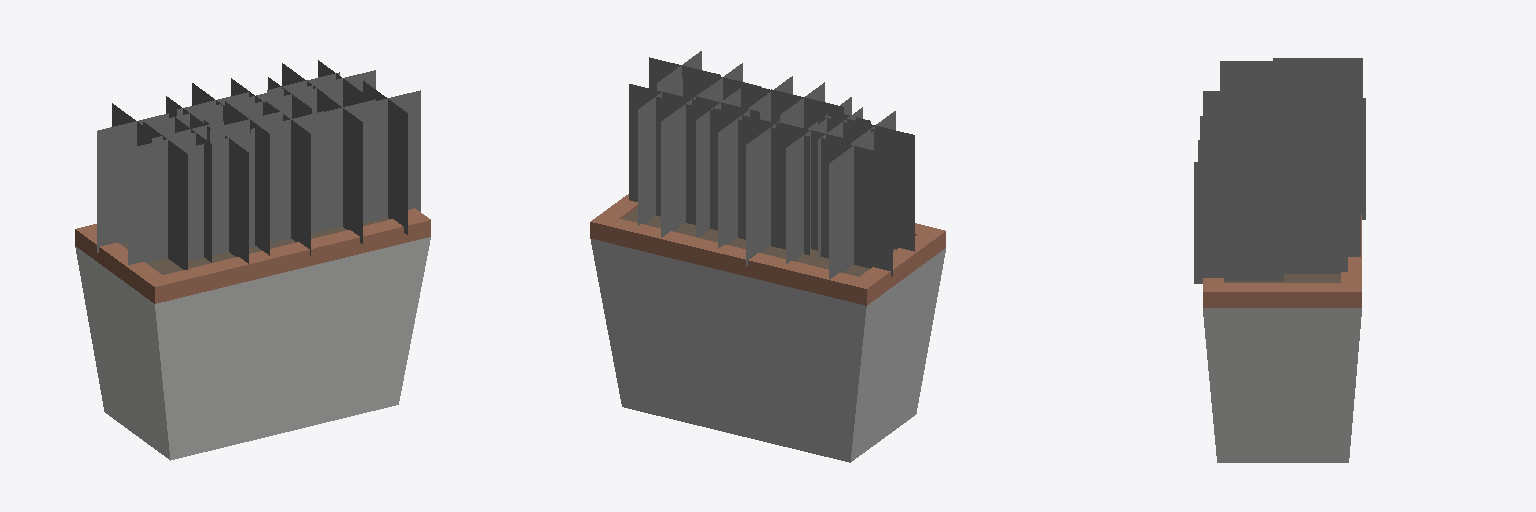
File: Planter_Low_LOD.obj
3 renders of one model, left to right at view 1: azimuth 30°, elevation 25°; view 2: azimuth 150°, elevation 25°; view 3: azimuth 270°, elevation 25°, orthographic.
Visible parts, largest first — view 1: Mesh29 Model, Mesh17 Orchid9 Model, Mesh23 Orchid12 Model, Mesh15 Orchid8 Model, Mesh11 Orchid6 Model, Mesh7 Orchid4 Model, Mesh19 Orchid10 Model, Mesh8 Orchid4 Model, Mesh24 Orchid12 Model, Mesh18 Orchid9 Model, Mesh20 Orchid10 Model, Mesh16 Orchid8 Model (+9 smaller); view 2: Mesh29 Model, Mesh11 Orchid6 Model, Mesh3 Orchid2 Model, Mesh27 Orchid14 Model, Mesh12 Orchid6 Model, Mesh4 Orchid2 Model, Mesh17 Orchid9 Model, Mesh28 Orchid14 Model, Mesh10 Orchid5 Model, Mesh14 Orchid7 Model, Mesh22 Orchid11 Model, Mesh6 Orchid3 Model (+9 smaller); view 3: Mesh29 Model, Mesh24 Orchid12 Model, Mesh22 Orchid11 Model, Mesh28 Orchid14 Model, Mesh4 Orchid2 Model, Mesh20 Orchid10 Model, Mesh26 Orchid13 Model, Mesh8 Orchid4 Model, Mesh12 Orchid6 Model, Mesh18 Orchid9 Model, Mesh14 Orchid7 Model, Mesh10 Orchid5 Model (+2 smaller).
Boxes of the visible parts, <box> form: Mesh29 Model: <box>75,208,430,460</box>; Mesh17 Orchid9 Model: <box>128,131,200,264</box>; Mesh23 Orchid12 Model: <box>348,90,420,222</box>; Mesh15 Orchid8 Model: <box>189,133,250,260</box>; Mesh11 Orchid6 Model: <box>97,113,168,252</box>; Mesh7 Orchid4 Model: <box>303,99,375,233</box>; Mesh19 Orchid10 Model: <box>251,111,323,247</box>; Mesh8 Orchid4 Model: <box>318,90,362,243</box>; Mesh24 Orchid12 Model: <box>363,81,407,234</box>; Mesh18 Orchid9 Model: <box>143,122,187,269</box>; Mesh20 Orchid10 Model: <box>266,101,310,255</box>; Mesh16 Orchid8 Model: <box>204,120,248,263</box>; Mesh29 Model: <box>590,194,945,462</box>; Mesh11 Orchid6 Model: <box>821,138,892,276</box>; Mesh3 Orchid2 Model: <box>738,119,809,255</box>; Mesh27 Orchid14 Model: <box>653,96,724,230</box>; Mesh12 Orchid6 Model: <box>829,131,873,279</box>; Mesh4 Orchid2 Model: <box>746,113,790,266</box>; Mesh17 Orchid9 Model: <box>842,117,914,251</box>; Mesh28 Orchid14 Model: <box>661,89,705,237</box>; Mesh10 Orchid5 Model: <box>718,100,762,248</box>; Mesh14 Orchid7 Model: <box>786,116,830,263</box>; Mesh22 Orchid11 Model: <box>638,77,682,225</box>; Mesh6 Orchid3 Model: <box>696,88,740,237</box>; Mesh29 Model: <box>1203,215,1361,462</box>; Mesh24 Orchid12 Model: <box>1194,162,1283,283</box>; Mesh22 Orchid11 Model: <box>1258,155,1347,273</box>; Mesh28 Orchid14 Model: <box>1271,141,1360,256</box>; Mesh4 Orchid2 Model: <box>1276,98,1365,219</box>; Mesh20 Orchid10 Model: <box>1200,116,1288,139</box>; Mesh26 Orchid13 Model: <box>1209,93,1298,115</box>; Mesh8 Orchid4 Model: <box>1198,140,1287,161</box>; Mesh12 Orchid6 Model: <box>1273,58,1362,97</box>; Mesh18 Orchid9 Model: <box>1220,61,1309,90</box>; Mesh14 Orchid7 Model: <box>1262,82,1351,97</box>; Mesh10 Orchid5 Model: <box>1266,115,1354,140</box>.
Size of the model in its own units: 1.24 by 1.28 by 0.6525.